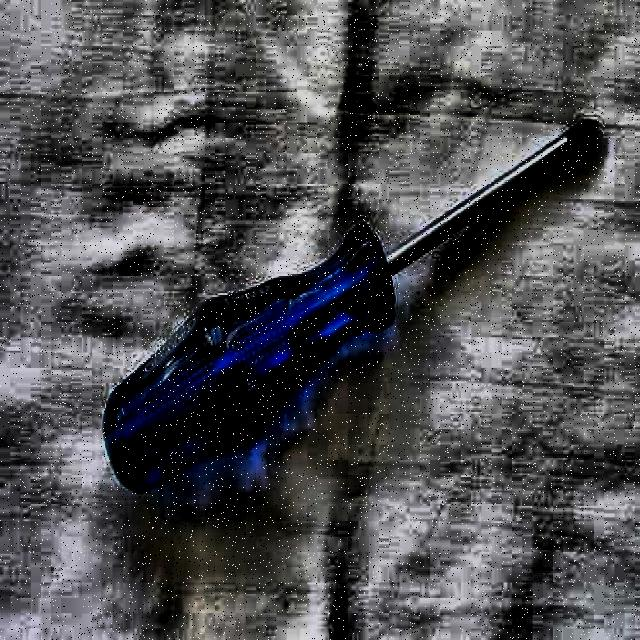screwdriver: (102, 118, 598, 496)
